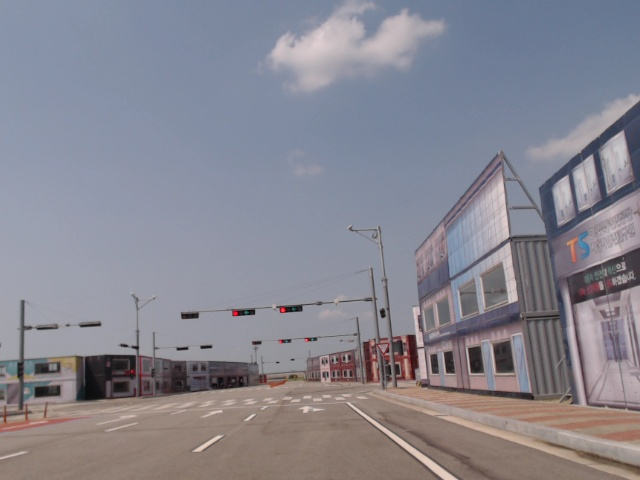left_green_4: (280, 306, 303, 312), (232, 310, 255, 315)
